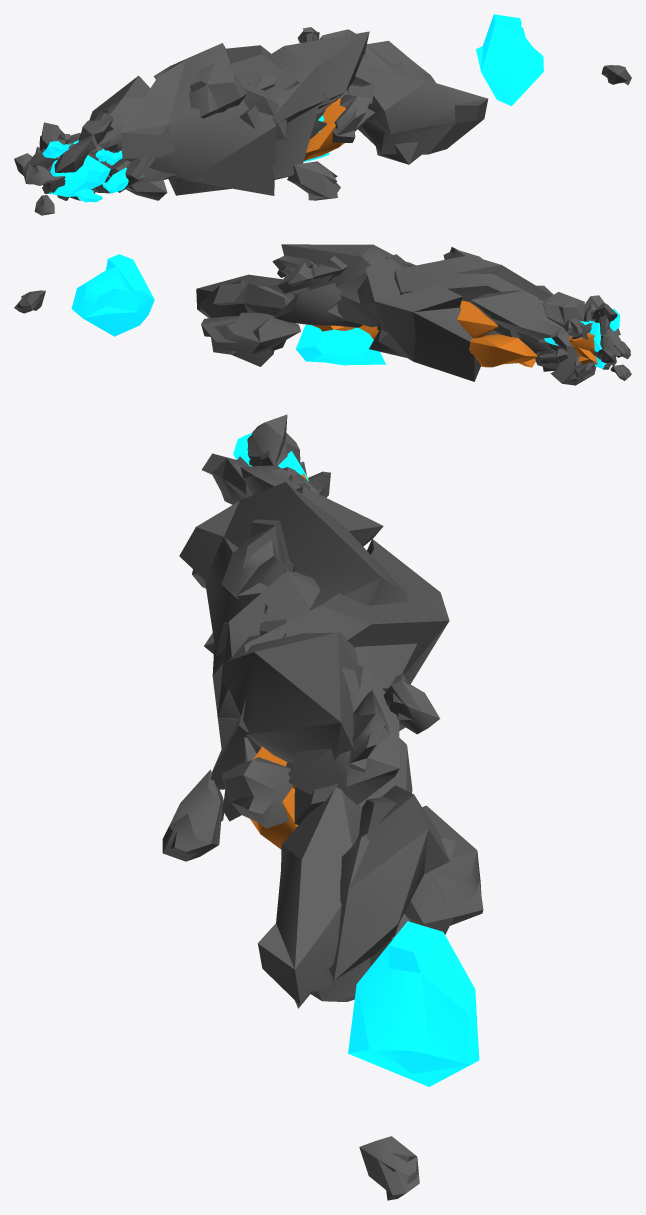
Rendered from p_mesh_orecrusher_stonedebri_vacumed_blendshape_pose2.fbx.
3 renders of one model, top to bottom at view 1: azimuth 30°, elevation 25°; view 2: azimuth 150°, elevation 25°; view 3: azimuth 270°, elevation 25°, orthographic. The views are drawn at different scales.
Visible parts, largest first — view 1: rocks_pose2; view 2: rocks_pose2; view 3: rocks_pose2.
Part boxes in pixels (x1,y1,x2,y2): rocks_pose2: (14, 14, 631, 215); rocks_pose2: (14, 244, 631, 385); rocks_pose2: (162, 414, 483, 1200).
Bounding box in the file's own units: 4.5 × 1.08 × 1.07.
